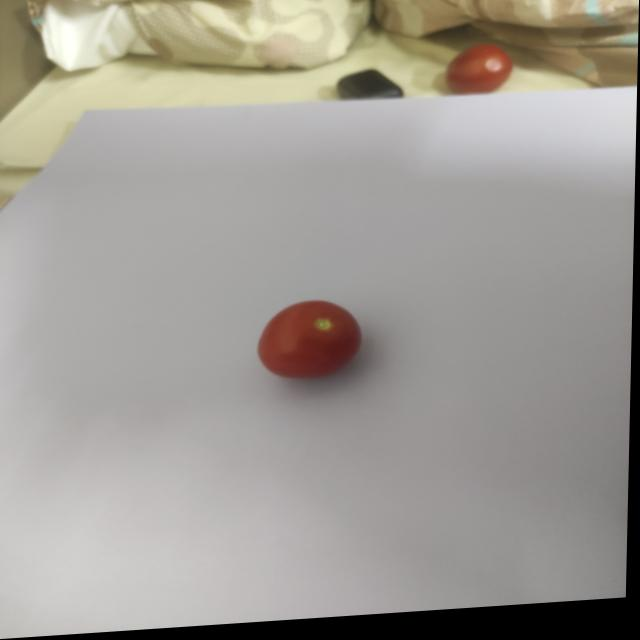kirmizi: (249, 276, 378, 396), (440, 39, 522, 107)
